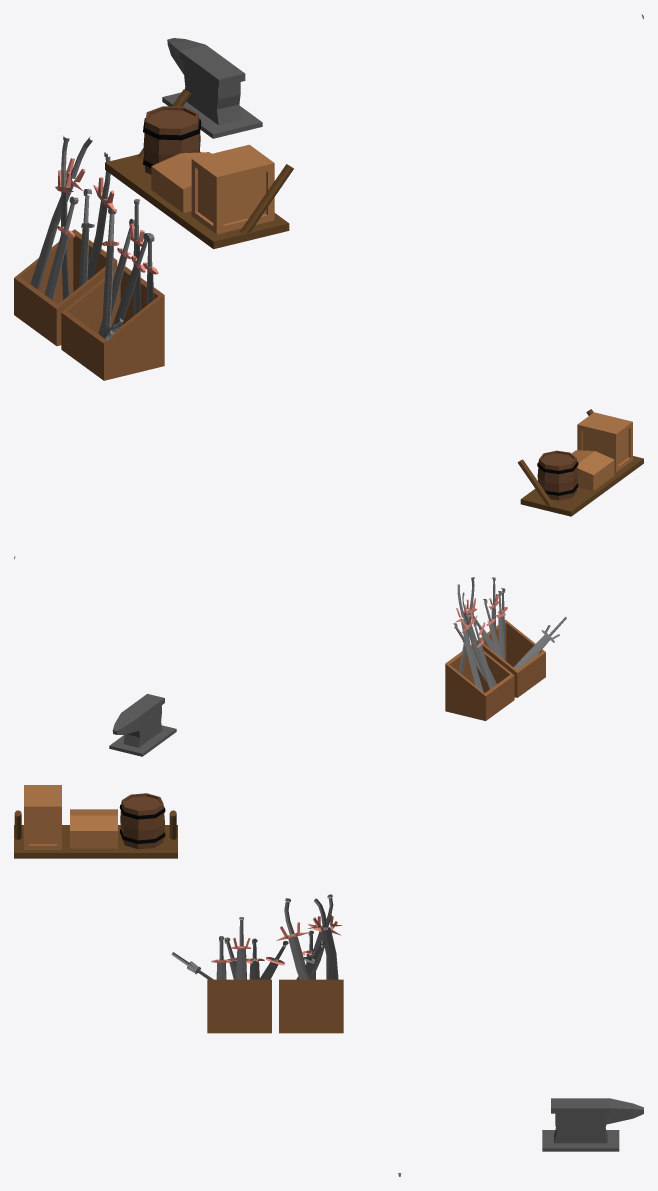
Rendered from For smithy.fbx.
The picture shows the model from 3 angles, top to bottom: view 1: azimuth 30°, elevation 25°; view 2: azimuth 150°, elevation 25°; view 3: azimuth 270°, elevation 25°; orthographic projection. The views are drawn at different scales.
Visible parts, largest first — view 1: Boxes.001, Sword.001, Boxes.002, Blacksmith, Roof.001, Barrel.002; view 2: Boxes.001, Sword.001, Boxes.002, Blacksmith, Roof.001, Barrel.002; view 3: Boxes.001, Sword.001, Boxes.002, Blacksmith, Roof.001, Barrel.002.
Part boxes in pixels (x1,y1,x2,y2): Boxes.001: (14,229,164,380); Sword.001: (30,14,643,340); Boxes.002: (151,144,274,234); Blacksmith: (162,38,262,138); Roof.001: (105,89,293,249); Barrel.002: (143,106,200,174); Boxes.001: (445,619,545,720); Sword.001: (14,556,566,691); Boxes.002: (571,412,632,490); Blacksmith: (109,694,176,756); Roof.001: (517,409,643,516); Barrel.002: (537,450,577,500); Boxes.001: (207,979,343,1033); Sword.001: (171,894,401,1176); Boxes.002: (24,785,117,849); Blacksmith: (542,1098,643,1151); Roof.001: (14,810,177,858); Barrel.002: (120,793,164,849).
Bounding box in the file's own units: 388 × 160 × 408.
